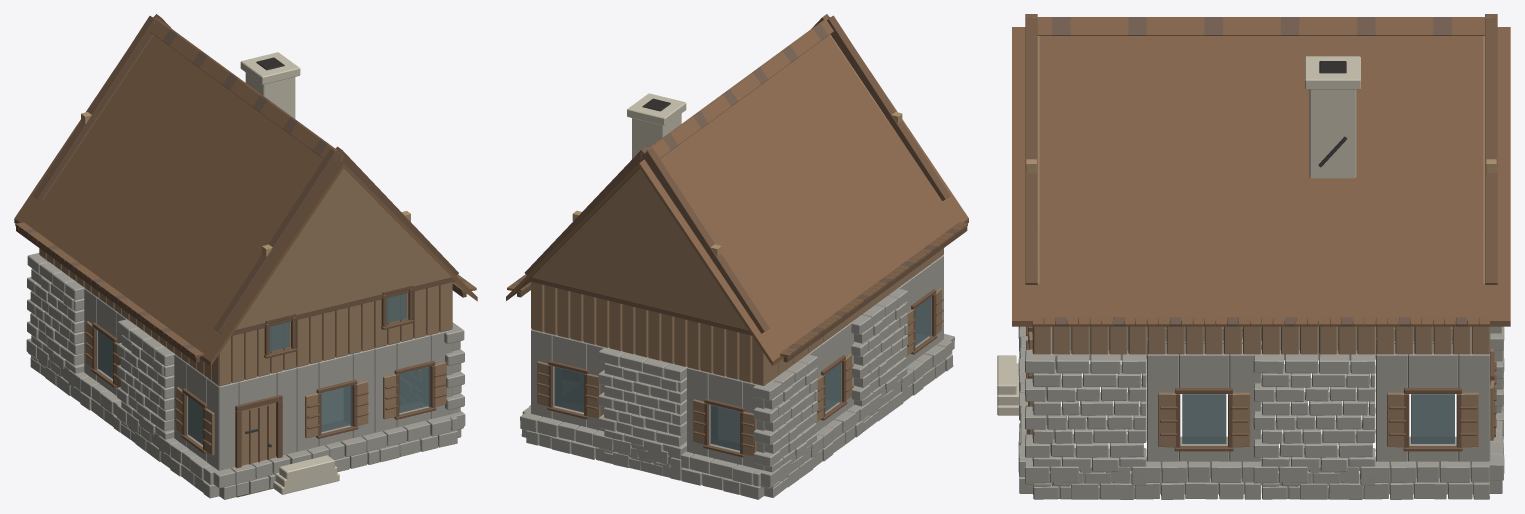
Rendered from residence_tier_2_kit_v1.glb.
3 views of the same model, side by side, from view 1: azimuth 30°, elevation 25°; view 2: azimuth 150°, elevation 25°; view 3: azimuth 270°, elevation 25° (orthographic). The views are drawn at different scales.
Visible parts, largest first — view 1: ResidenceRoofSurface_Left, R2_Gable_Front, R2_R2_02_Lower_Storey_LeftHost_1, R2_R2_02_Lower_Storey_LeftHost_3, R2_GableTruss_Front, R2_R2_02_Lower_Storey_FrontHost_0, R2_R2_02_Lower_Storey_FrontHost_1, R2_Foundation_Front_-1, R2_KneeWall_Front_+0, R2_R2_02_Lower_Storey_FrontHost_2, ResidenceDoor_Front_0, ResidenceWindow_Front_1 (+22 smaller); view 2: ResidenceRoofSurface_Left, R2_Gable_Rear, R2_R2_02_Lower_Storey_RearHost_1, R2_R2_02_Lower_Storey_LeftHost_3, R2_R2_02_Lower_Storey_LeftHost_1, R2_GableTruss_Rear, R2_Foundation_Rear_-1, R2_KneeWall_Rear_+0, R2_KneeWall_Rear_-2, R2_KneeWall_Rear_+2, R2_R2_02_Lower_Storey_RearHost_2, R2_R2_02_Lower_Storey_RearHost_0 (+17 smaller); view 3: ResidenceRoofSurface_Right, R2_R2_02_Lower_Storey_RightHost_3, R2_R2_02_Lower_Storey_RightHost_1, R2_Foundation_Right_2, R2_Foundation_Right_6, R2_R2_02_Lower_Storey_RightHost_2, ResidenceChimney_0, R2_R2_02_Lower_Storey_RightHost_0, ResidenceWindow_Right_2, ResidenceWindow_Right_0, R2_Roof_Ridge_0, R2_Roof_Ridge_1 (+16 smaller).
Boxes of the visible parts, left/top/right/bottom form: ResidenceRoofSurface_Left: left=14, top=35, right=344, bottom=366; R2_Gable_Front: left=235, top=168, right=451, bottom=330; R2_R2_02_Lower_Storey_LeftHost_1: left=117, top=319, right=174, bottom=461; R2_R2_02_Lower_Storey_LeftHost_3: left=27, top=253, right=84, bottom=395; R2_GableTruss_Front: left=214, top=146, right=458, bottom=335; R2_R2_02_Lower_Storey_FrontHost_0: left=209, top=368, right=296, bottom=496; R2_R2_02_Lower_Storey_FrontHost_1: left=296, top=349, right=374, bottom=451; R2_Foundation_Front_-1: left=213, top=433, right=379, bottom=499; R2_KneeWall_Front_+0: left=296, top=301, right=374, bottom=367; R2_R2_02_Lower_Storey_FrontHost_2: left=374, top=329, right=452, bottom=432; ResidenceDoor_Front_0: left=235, top=395, right=282, bottom=497; ResidenceWindow_Front_1: left=305, top=380, right=368, bottom=438; ResidenceRoofSurface_Left: left=639, top=35, right=968, bottom=365; R2_Gable_Rear: left=532, top=169, right=747, bottom=329; R2_R2_02_Lower_Storey_RearHost_1: left=598, top=347, right=687, bottom=477; R2_R2_02_Lower_Storey_LeftHost_3: left=753, top=354, right=818, bottom=497; R2_R2_02_Lower_Storey_LeftHost_1: left=851, top=288, right=908, bottom=431; R2_GableTruss_Rear: left=524, top=146, right=769, bottom=335; R2_Foundation_Rear_-1: left=520, top=412, right=683, bottom=480; R2_KneeWall_Rear_+0: left=609, top=301, right=687, bottom=366; R2_KneeWall_Rear_-2: left=531, top=282, right=609, bottom=347; R2_KneeWall_Rear_+2: left=687, top=320, right=764, bottom=385; R2_R2_02_Lower_Storey_RearHost_2: left=687, top=367, right=773, bottom=495; R2_R2_02_Lower_Storey_RearHost_0: left=531, top=329, right=609, bottom=431; ResidenceRoofSurface_Right: left=1012, top=27, right=1510, bottom=326; R2_R2_02_Lower_Storey_RightHost_3: left=1025, top=350, right=1146, bottom=499; R2_R2_02_Lower_Storey_RightHost_1: left=1253, top=350, right=1375, bottom=499; R2_Foundation_Right_2: left=1253, top=456, right=1489, bottom=499; R2_Foundation_Right_6: left=1025, top=457, right=1260, bottom=499; R2_R2_02_Lower_Storey_RightHost_2: left=1147, top=344, right=1261, bottom=494; ResidenceChimney_0: left=1305, top=56, right=1360, bottom=178; R2_R2_02_Lower_Storey_RightHost_0: left=1376, top=344, right=1490, bottom=494; ResidenceWindow_Right_2: left=1158, top=388, right=1250, bottom=451; ResidenceWindow_Right_0: left=1387, top=388, right=1478, bottom=451; R2_Roof_Ridge_0: left=1031, top=17, right=1261, bottom=35; R2_Roof_Ridge_1: left=1261, top=17, right=1491, bottom=35.
Size of the model in its own units: 7.22 by 7.9 by 8.98.
